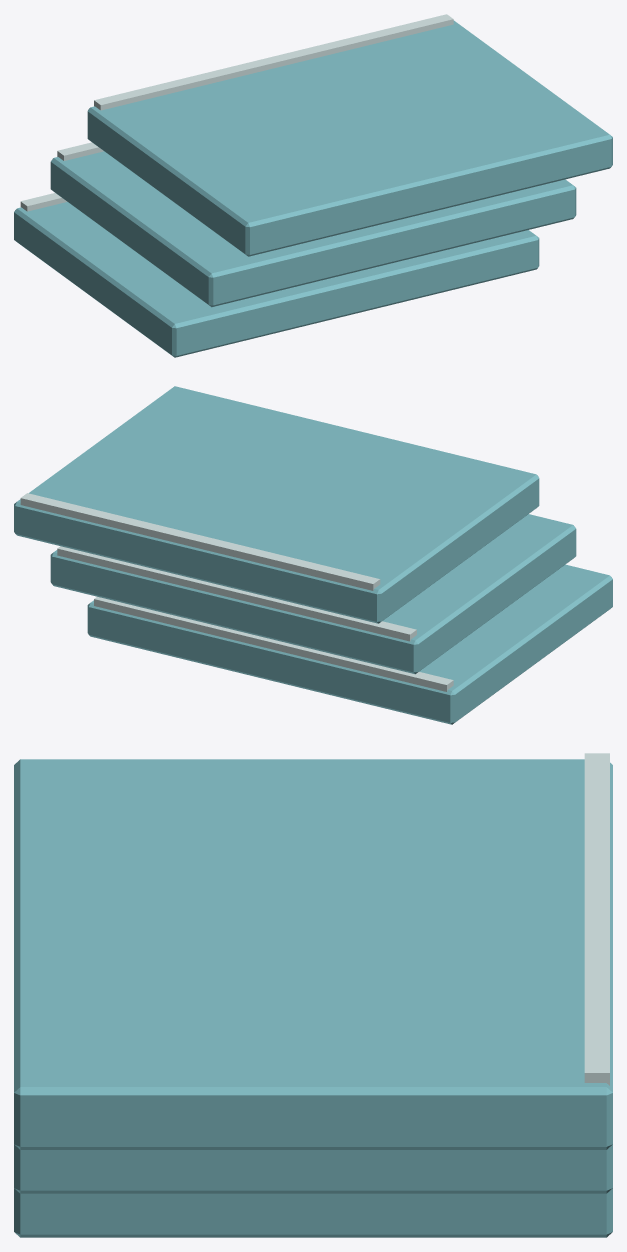
The model's file is glass.glb.
The picture shows the model from 3 angles, top to bottom: view 1: azimuth 30°, elevation 25°; view 2: azimuth 150°, elevation 25°; view 3: azimuth 270°, elevation 25°; orthographic projection. The views are drawn at different scales.
Parts seen in each view (by area): view 1: glass / Glass and lenses, glass / Quartz faces; view 2: glass / Glass and lenses, glass / Quartz faces; view 3: glass / Glass and lenses, glass / Quartz faces.
Boxes of the visible parts, <box> form: glass / Glass and lenses: <box>14,20,612,357</box>; glass / Quartz faces: <box>20,14,453,211</box>; glass / Glass and lenses: <box>14,386,612,724</box>; glass / Quartz faces: <box>20,493,453,691</box>; glass / Glass and lenses: <box>14,759,612,1237</box>; glass / Quartz faces: <box>584,753,609,1085</box>.
Bounding box in the file's own units: 0.3 × 0.0795 × 0.19.
